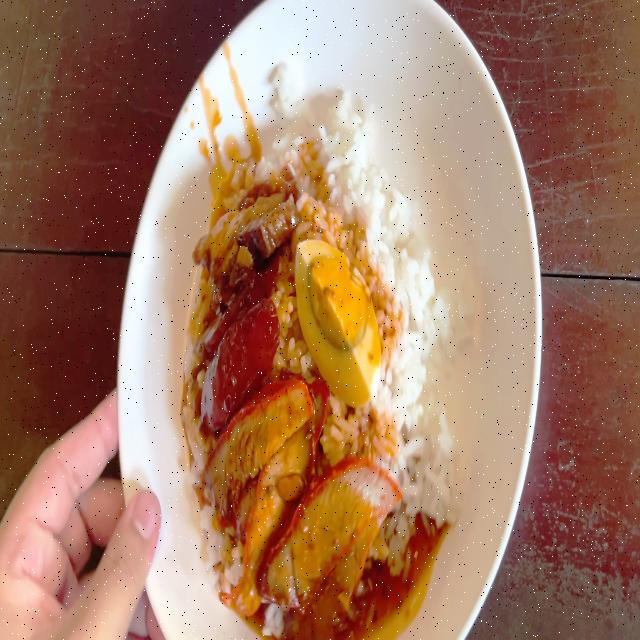boiled_egg: (298, 244, 378, 400)
chainese_sausage: (193, 269, 273, 412)
crispy_pork: (197, 165, 301, 268)
red_pork: (215, 390, 388, 612)
red_pork_and_crispy_pork: (188, 105, 460, 627)
rice: (382, 230, 460, 538), (296, 103, 402, 246)
